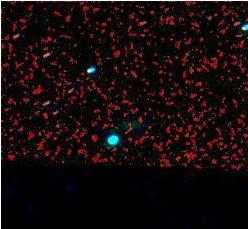star: (72, 56, 102, 86)
